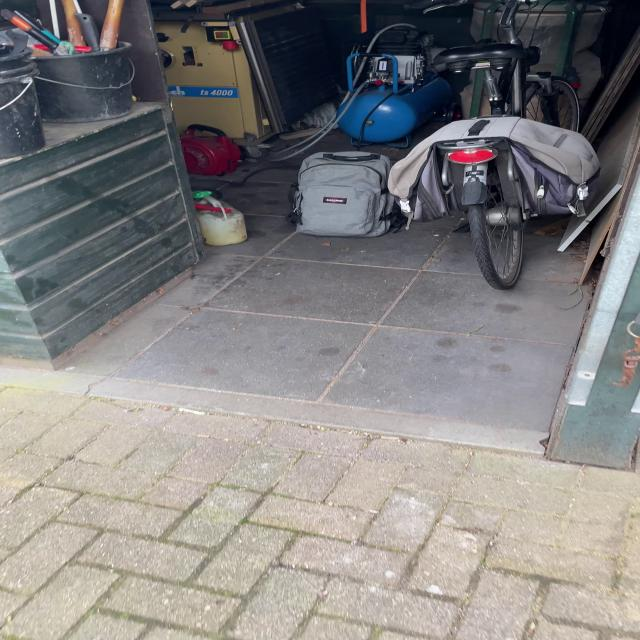backpack: (285, 146, 411, 242)
